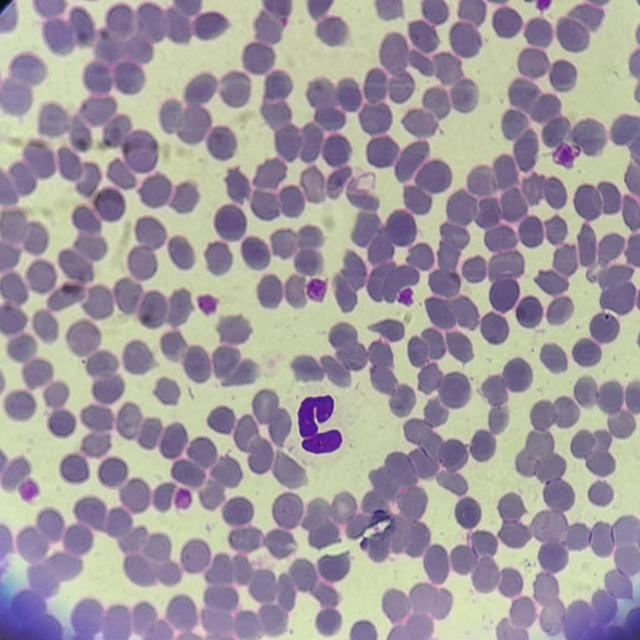Neutrofilo: (292, 390, 351, 463)
